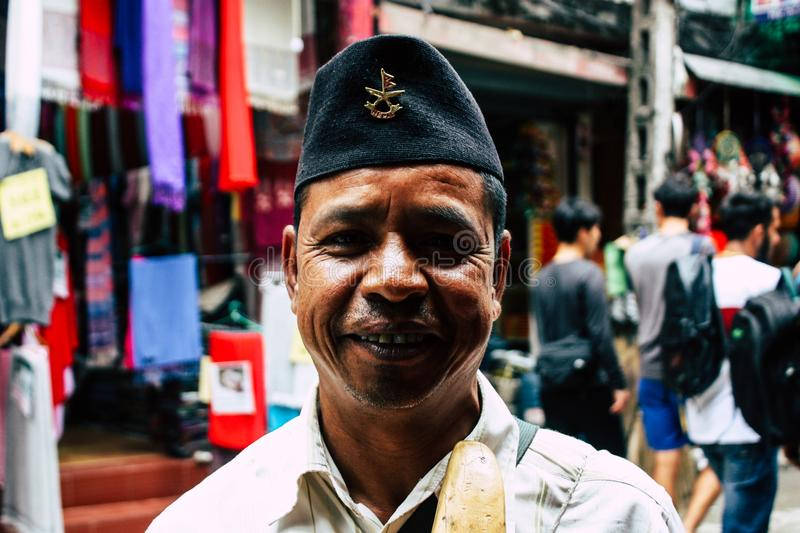human: (135, 28, 698, 533)
